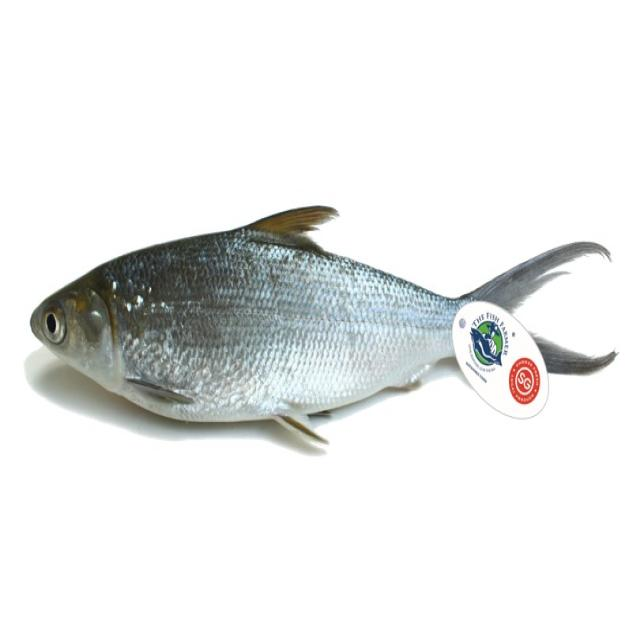Bangus: (28, 139, 613, 493)
